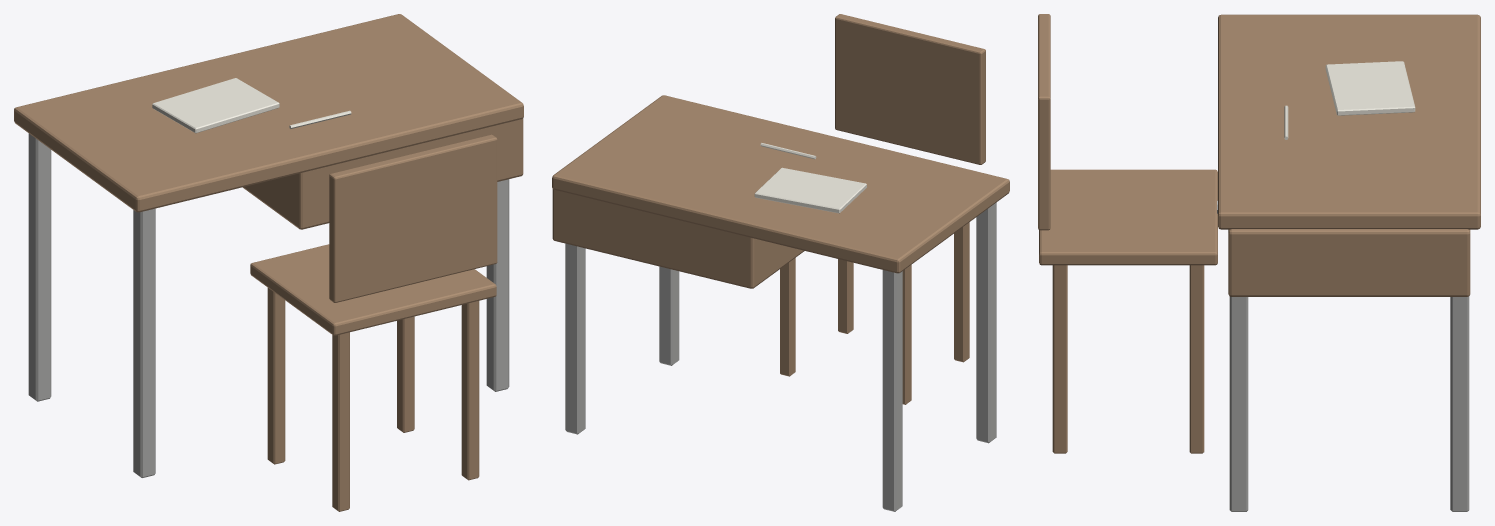
Rendered from kidsdesk_01.glb.
The picture shows the model from 3 angles, left to right: view 1: azimuth 30°, elevation 25°; view 2: azimuth 150°, elevation 25°; view 3: azimuth 270°, elevation 25°; orthographic projection. The views are drawn at different scales.
Visible parts, largest first — view 1: kidsdesk_01; view 2: kidsdesk_01; view 3: kidsdesk_01.
Part boxes in pixels (<box>): kidsdesk_01: <box>14,14,523,511</box>; kidsdesk_01: <box>552,14,1009,511</box>; kidsdesk_01: <box>1038,14,1480,511</box>.
Size of the model in its own units: 0.91 by 0.76 by 0.842.
